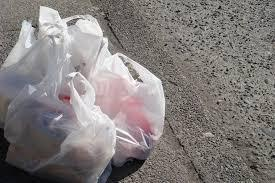Plastic bag: (0, 9, 180, 183)
